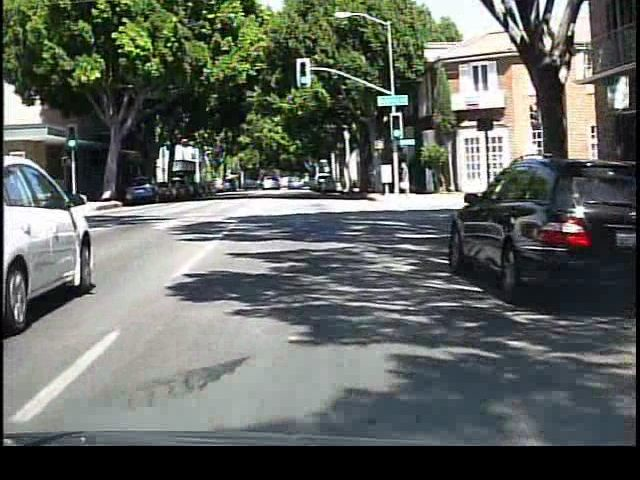person: (397, 157, 416, 200)
